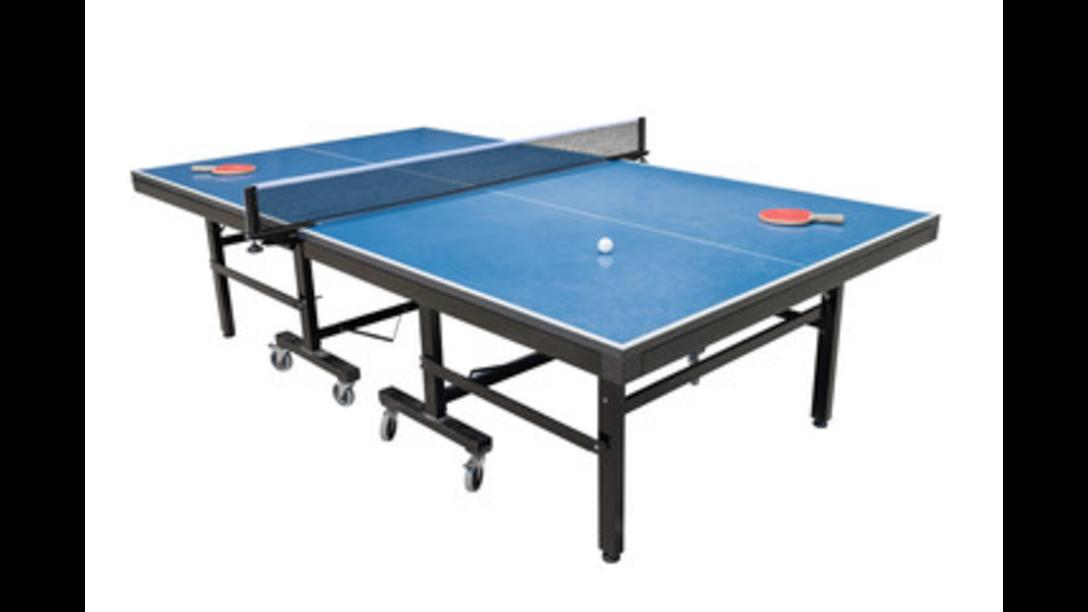Table-Tennis-Ball: (598, 237, 612, 251)
